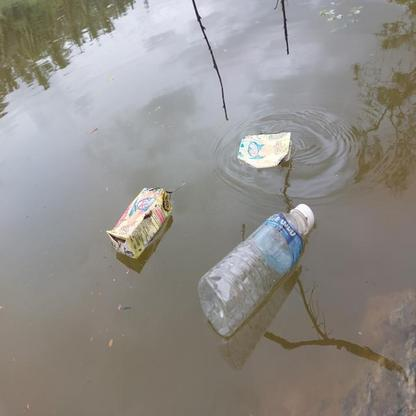plastic bottle: (195, 202, 315, 336)
